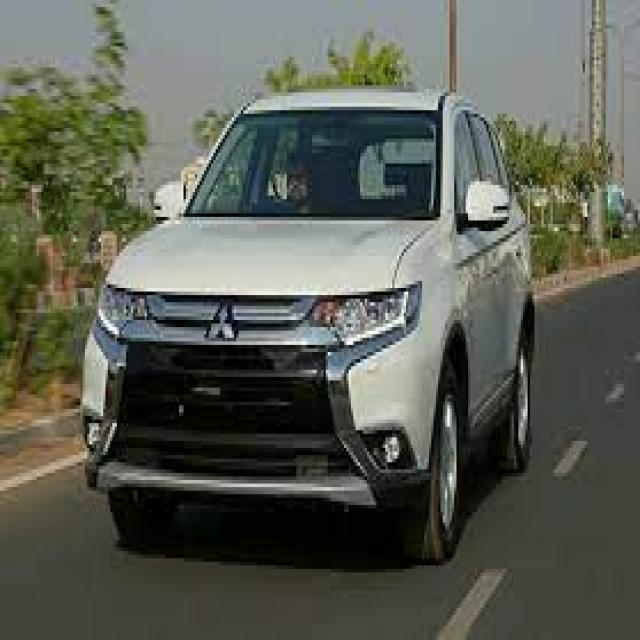light_vehicle: (79, 89, 538, 565)
